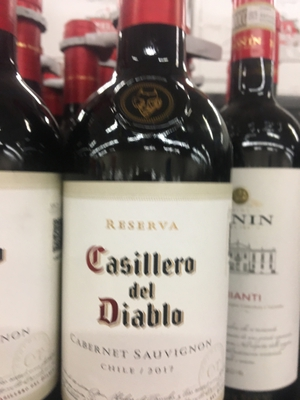casillero del diablo cabernet sauvignon: (59, 32, 228, 400)
